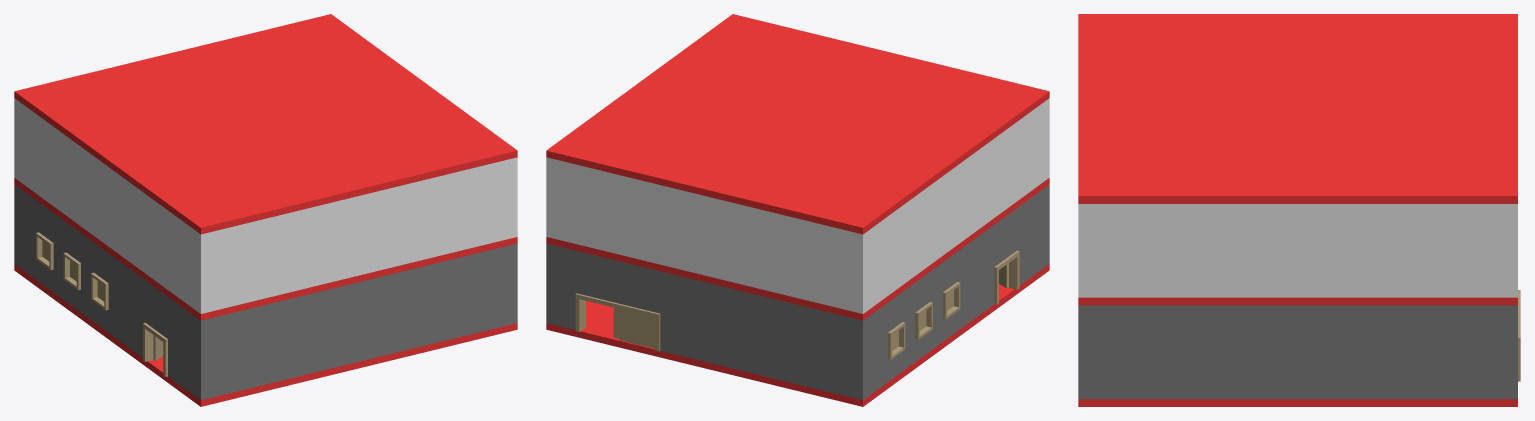
The model's file is Studio_New.fbx.
3 renders of one model, left to right at view 1: azimuth 30°, elevation 25°; view 2: azimuth 150°, elevation 25°; view 3: azimuth 270°, elevation 25°, orthographic. The views are drawn at different scales.
Parts seen in each view (by area): view 1: Roof, Walls_Upper, Walls_Lower, FloorMid001, FloorMid, Door, Window001, Window, Window002; view 2: Roof, Walls_Upper, Walls_Lower, FloorMid001, FloorMid, DoorSide, Door, Window001, Window, Window002; view 3: Roof, Walls_Lower, Walls_Upper, FloorMid, FloorMid001.
Boxes of the visible parts, bbox=[...] form: Roof: bbox=[14, 14, 517, 234]; Walls_Upper: bbox=[14, 98, 517, 313]; Walls_Lower: bbox=[14, 184, 517, 400]; FloorMid001: bbox=[14, 264, 517, 406]; FloorMid: bbox=[14, 178, 517, 320]; Door: bbox=[143, 322, 167, 376]; Window001: bbox=[63, 252, 80, 290]; Window: bbox=[36, 232, 53, 270]; Window002: bbox=[91, 272, 108, 310]; Roof: bbox=[546, 14, 1049, 234]; Walls_Upper: bbox=[546, 98, 1049, 313]; Walls_Lower: bbox=[546, 184, 1049, 400]; FloorMid001: bbox=[546, 264, 1049, 406]; FloorMid: bbox=[546, 178, 1049, 320]; DoorSide: bbox=[575, 293, 660, 351]; Door: bbox=[994, 250, 1019, 304]; Window001: bbox=[915, 302, 932, 339]; Window: bbox=[888, 322, 905, 359]; Window002: bbox=[943, 282, 960, 319]; Roof: bbox=[1078, 14, 1517, 203]; Walls_Lower: bbox=[1078, 305, 1517, 399]; Walls_Upper: bbox=[1078, 204, 1517, 297]; FloorMid: bbox=[1078, 297, 1517, 305]; FloorMid001: bbox=[1078, 399, 1517, 406].
Size of the model in its own units: 25.23 by 25.66 by 13.5.
